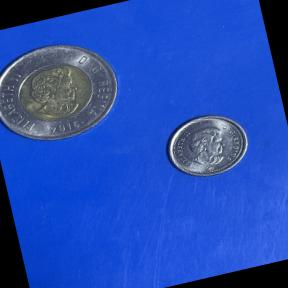coin: (0, 23, 134, 159), (155, 100, 259, 191)
